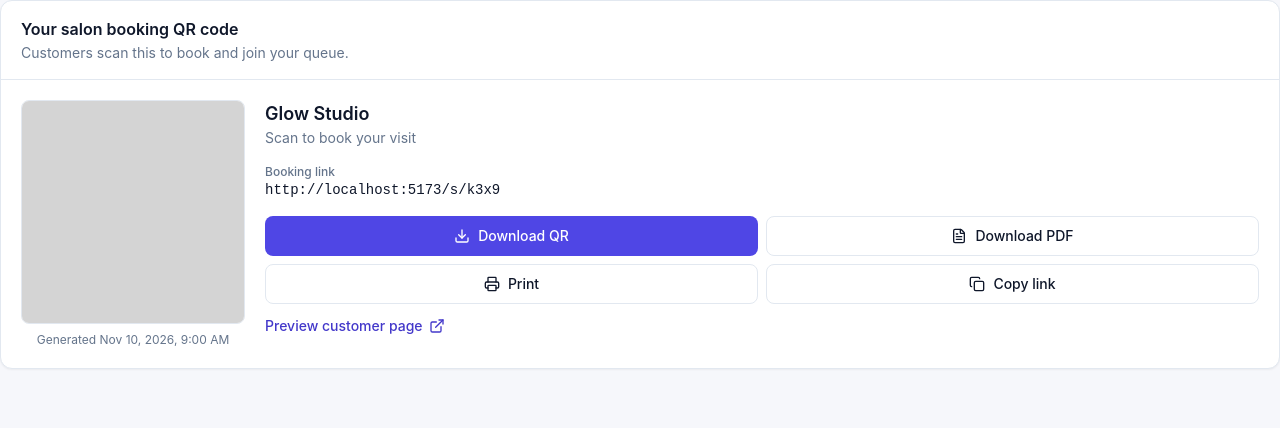
Test: QrCodeCard › reports a failed copy
Click the button "Copy link" at (1012, 284), box [766,264,1259,304]
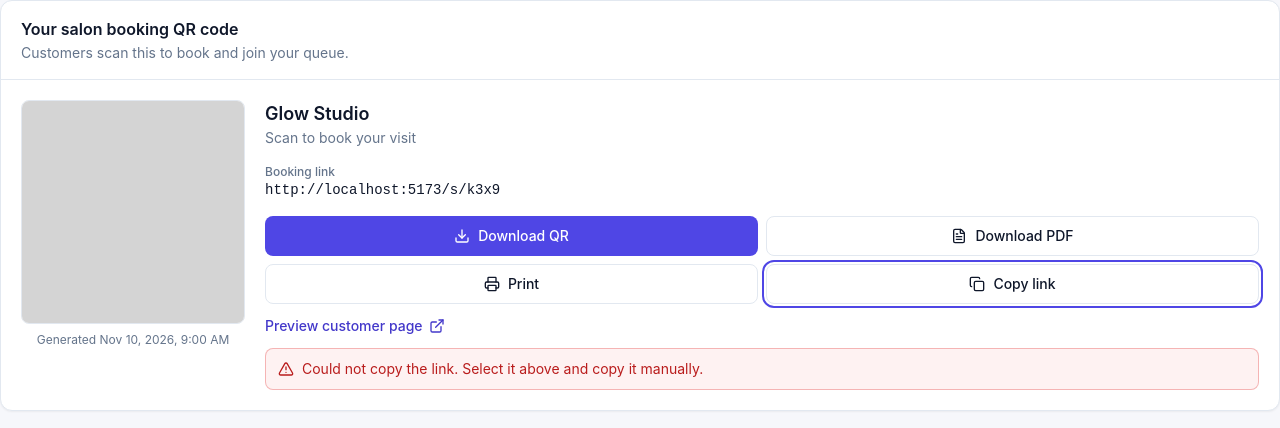
Expected: the message shows "Could not copy", [302,360,703,377]
